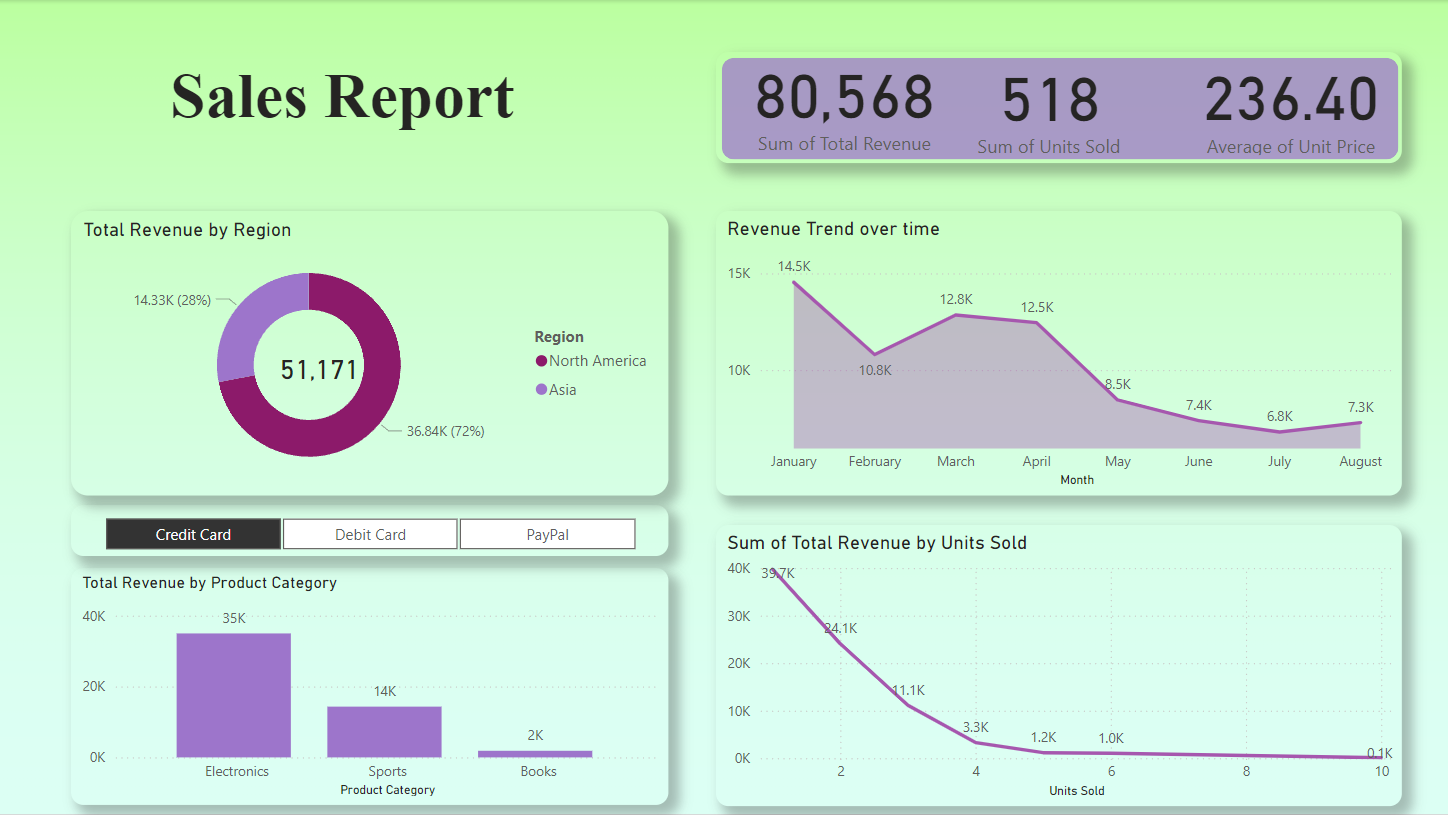

The page's visual inventory and layout, read from the dashboard file:
{"tool":"powerbi","page":{"name":"Page 1","canvas":[1280,720],"ordinal":0},"visuals":[{"type":"donutChart","title":"Total Revenue by Region","fields":{"Y":["Sum(Online Sales Data.Total Revenue)"],"Category":["Online Sales Data.Region"]},"box":[63.1,200.4,527.1,250.2],"z":0},{"type":"shape","box":[632.5,45.9,605.2,97.9],"z":1000},{"type":"slicer","fields":{"Values":["Online Sales Data.Payment Method"]},"box":[63.1,456.6,527.1,44.9],"z":2000},{"type":"card","fields":{"Values":["Sum(Online Sales Data.Total Revenue)"]},"box":[235.5,294.6,93.5,87.3],"z":3000},{"type":"textbox","box":[52.2,47.4,501.6,97.2],"z":4000},{"type":"card","fields":{"Values":["Sum(Online Sales Data.Total Revenue)"]},"box":[632.5,34.4,195.8,107.6],"z":5000},{"type":"lineChart","fields":{"Category":["Online Sales Data.Units Sold"],"Y":["Sum(Online Sales Data.Total Revenue)"]},"box":[632.7,462.7,604.8,247.7],"z":6000},{"type":"card","fields":{"Values":["Sum(Online Sales Data.Units Sold)"]},"box":[828.3,37.1,195.8,107.6],"z":7000},{"type":"card","fields":{"Values":["Avg(Online Sales Data.Unit Price)"]},"box":[1041.8,38.8,195.8,103.2],"z":8000},{"type":"areaChart","title":"Revenue Trend over time","fields":{"Category":["Online Sales Data.Date.Variation.Date Hierarchy.Month"],"Y":["Sum(Online Sales Data.Total Revenue)"]},"box":[632.7,200.4,604.8,250.2],"z":9000},{"type":"clusteredColumnChart","title":"Total Revenue by Product Category","fields":{"Category":["Online Sales Data.Product Category"],"Y":["Sum(Online Sales Data.Total Revenue)"]},"box":[63.1,511.3,527.1,199.2],"z":10000}]}

Visuals, with their boxes in screenshot pixels (x1, y1, x2, y2), scaled from the page's 1280x720 canvas onto the 1448x815 screenshot:
"Total Revenue by Region" donutChart: <bbox>71, 227, 668, 510</bbox>
shape: <bbox>716, 52, 1400, 163</bbox>
slicer - Online Sales Data.Payment Method: <bbox>71, 517, 668, 568</bbox>
card - Sum(Online Sales Data.Total Revenue): <bbox>266, 333, 372, 432</bbox>
textbox: <bbox>59, 54, 626, 164</bbox>
card - Sum(Online Sales Data.Total Revenue): <bbox>716, 39, 937, 161</bbox>
lineChart - Online Sales Data.Units Sold x Sum(Online Sales Data.Total Revenue): <bbox>716, 524, 1400, 804</bbox>
card - Sum(Online Sales Data.Units Sold): <bbox>937, 42, 1159, 164</bbox>
card - Avg(Online Sales Data.Unit Price): <bbox>1179, 44, 1400, 161</bbox>
"Revenue Trend over time" areaChart: <bbox>716, 227, 1400, 510</bbox>
"Total Revenue by Product Category" clusteredColumnChart: <bbox>71, 579, 668, 804</bbox>
